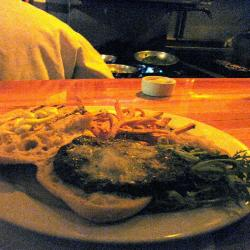burger: (36, 133, 172, 229)
salad: (152, 139, 247, 214)
